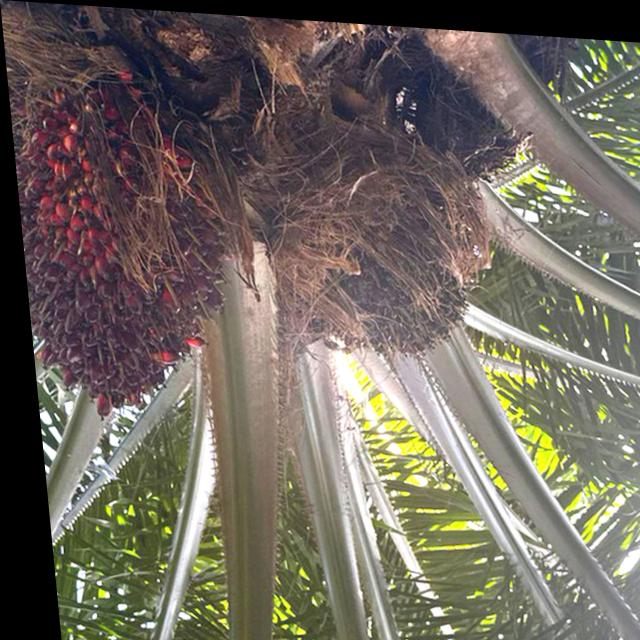unripe: (263, 164, 480, 368)
